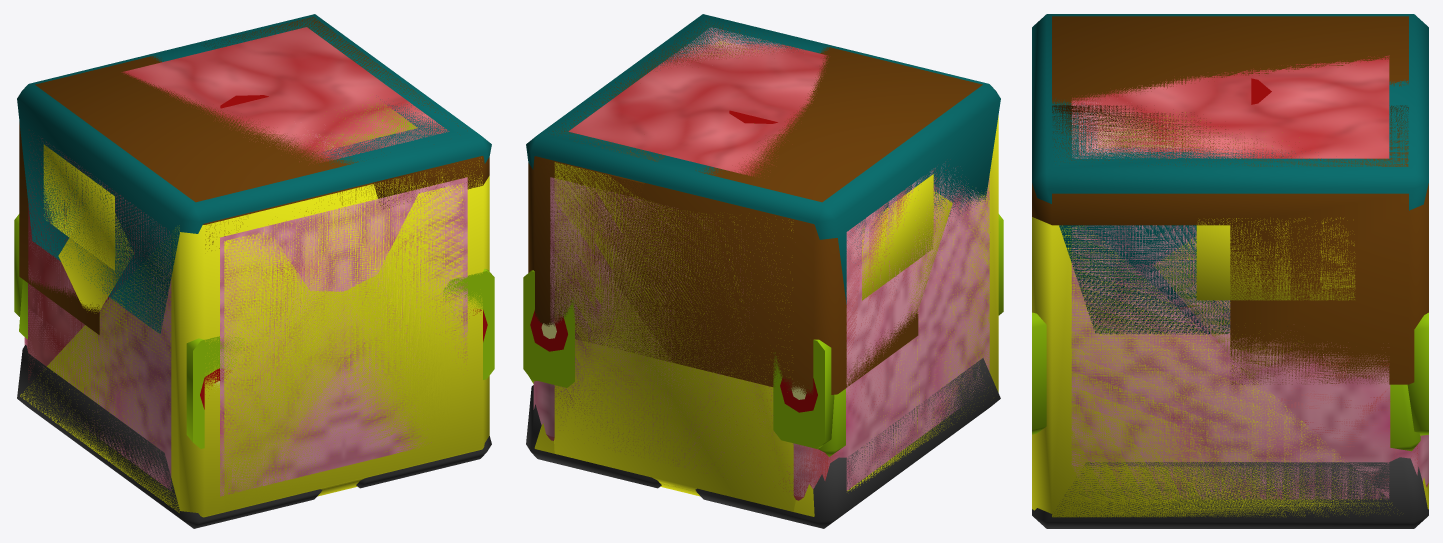
The model's file is S_ZombiesV1.0.fbx.
3 renders of one model, left to right at view 1: azimuth 30°, elevation 25°; view 2: azimuth 150°, elevation 25°; view 3: azimuth 270°, elevation 25°, orthographic. The views are drawn at different scales.
Parts seen in each view (by area): view 1: Z_01_Body3_2, Z_01_Brains1, Z_01_Body1, Z_01_Legs1, Z_01_Head1, Z_01_Body2, Z_01_Head2, Z_01_Guts1; view 2: Z_01_Head1, Z_01_Brains1, Z_01_Body1, Z_01_Legs1, Z_01_Body3_2, Z_01_Body3_1, Z_01_Head2, Z_01_Guts1, Z_01_Body2; view 3: Z_01_Head1, Z_01_Body3_2, Z_01_Legs1, Z_01_Brains1, Z_01_Body3_1, Z_01_Head2, Z_01_Body2, Z_01_Guts1.
Part boxes in pixels (x1,y1,x2,y2): Z_01_Body3_2: [20, 27, 489, 516]; Z_01_Brains1: [24, 137, 467, 496]; Z_01_Body1: [43, 95, 463, 512]; Z_01_Legs1: [17, 14, 491, 528]; Z_01_Head1: [19, 56, 489, 334]; Z_01_Body2: [58, 185, 494, 517]; Z_01_Head2: [204, 17, 483, 209]; Z_01_Guts1: [14, 214, 27, 339]; Z_01_Head1: [528, 47, 982, 395]; Z_01_Brains1: [533, 27, 989, 496]; Z_01_Body1: [554, 110, 933, 511]; Z_01_Legs1: [526, 14, 1000, 528]; Z_01_Body3_2: [546, 37, 998, 500]; Z_01_Body3_1: [555, 115, 795, 511]; Z_01_Head2: [535, 18, 797, 360]; Z_01_Guts1: [523, 270, 845, 456]; Z_01_Body2: [534, 191, 1003, 516]; Z_01_Head1: [1032, 16, 1428, 384]; Z_01_Body3_2: [1032, 55, 1428, 517]; Z_01_Legs1: [1032, 14, 1428, 528]; Z_01_Brains1: [1071, 101, 1428, 499]; Z_01_Body3_1: [1196, 78, 1355, 300]; Z_01_Head2: [1032, 105, 1428, 384]; Z_01_Body2: [1032, 237, 1428, 510]; Z_01_Guts1: [1390, 312, 1428, 451].
Size of the model in its own units: 100 by 100 by 100.
3 materials, 3 textured.
